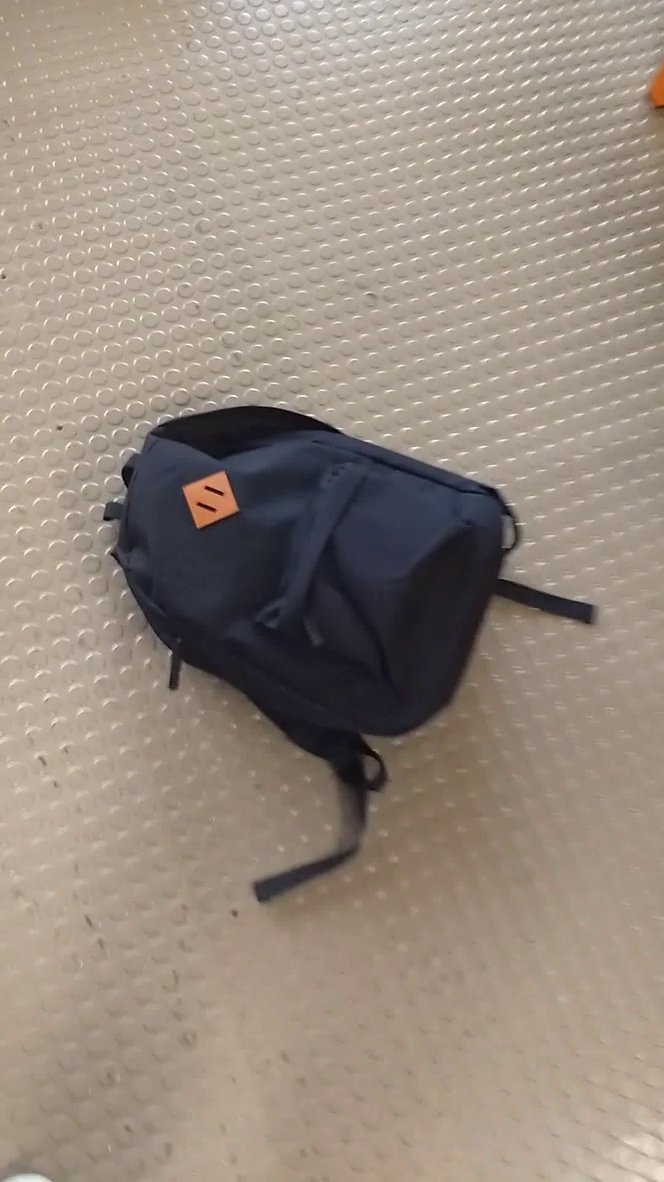bag: (96, 392, 620, 926)
